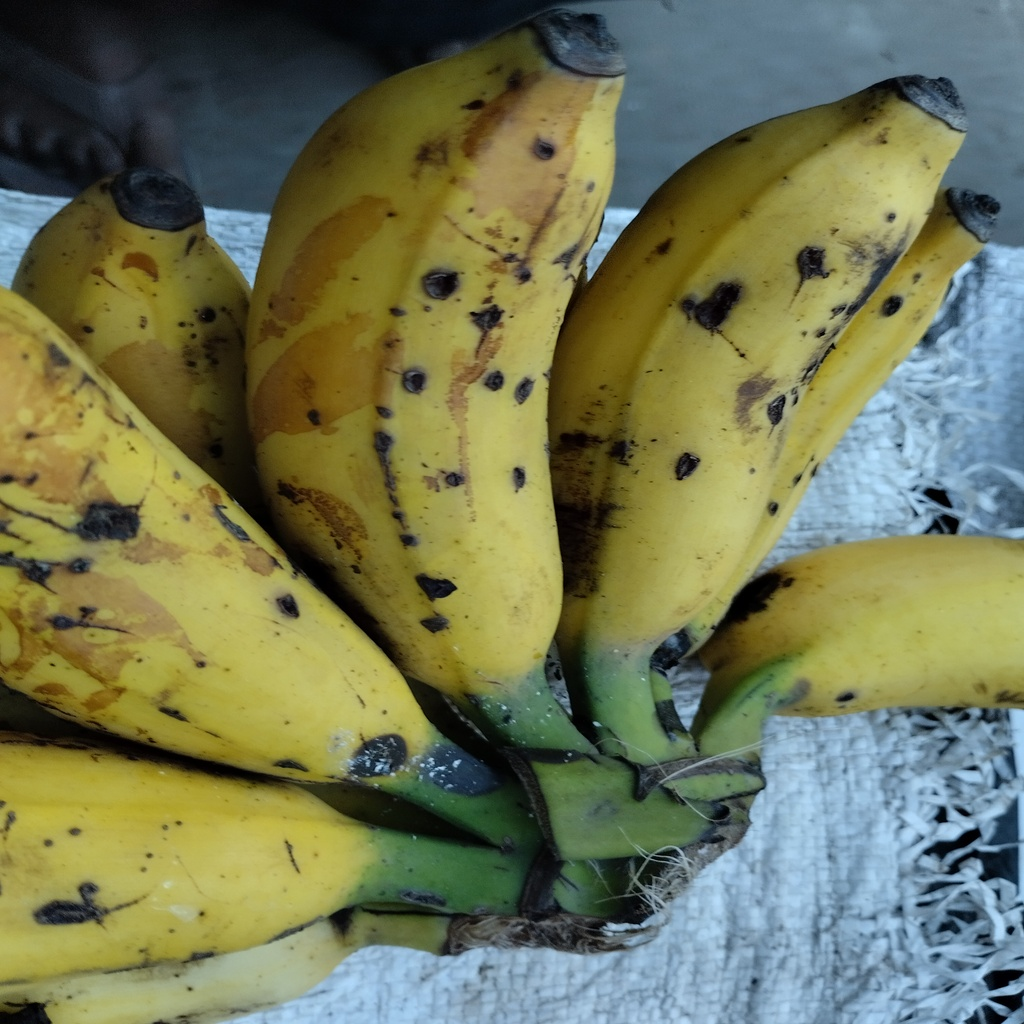unhealthy: (547, 95, 970, 702), (247, 19, 619, 687)
